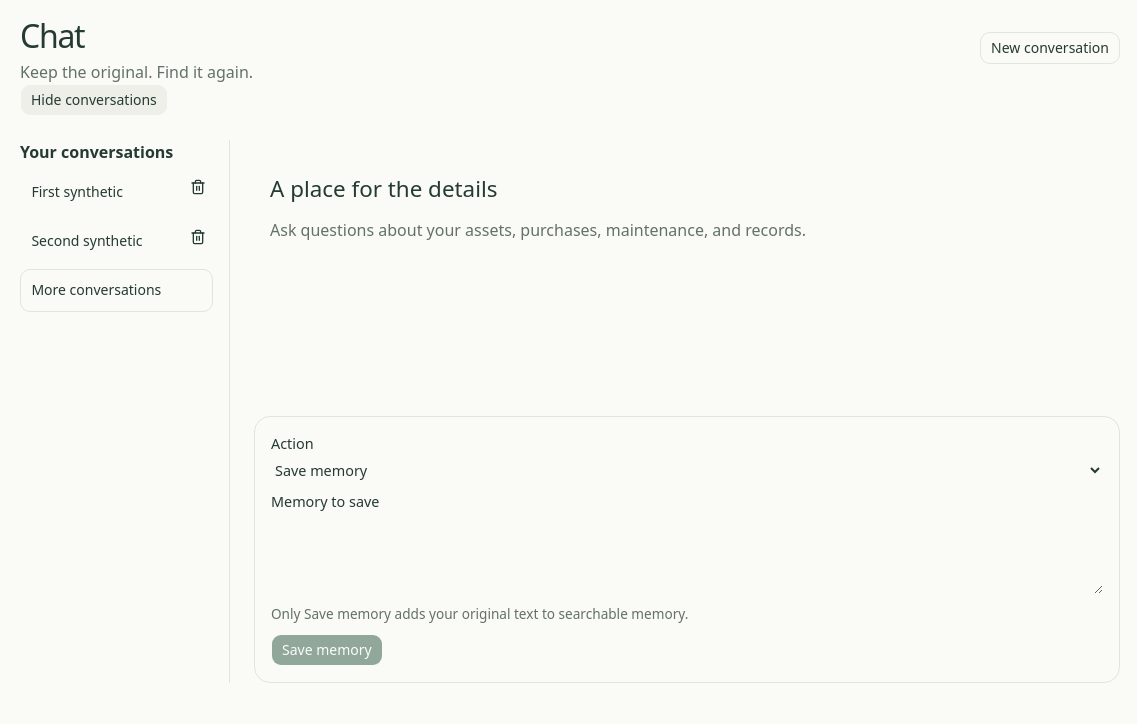
aborts pending pagination so a late page cannot restore a deleted conversation
The width and height of the screenshot is (1137, 724).
Check: the button "First synthetic" is shown, box [20, 170, 177, 213]
Click the button "More conversations" at (116, 290), box [20, 269, 213, 312]
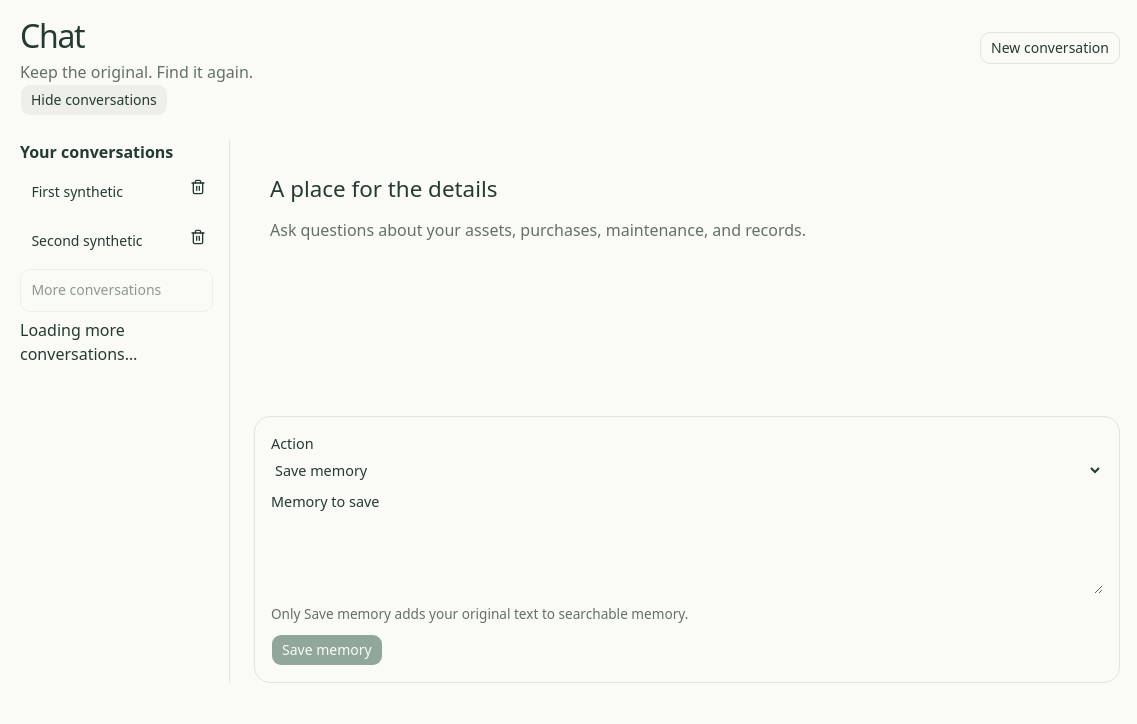
Click the button named "Review deletion of First synthetic" at (197, 187), box [181, 170, 213, 204]
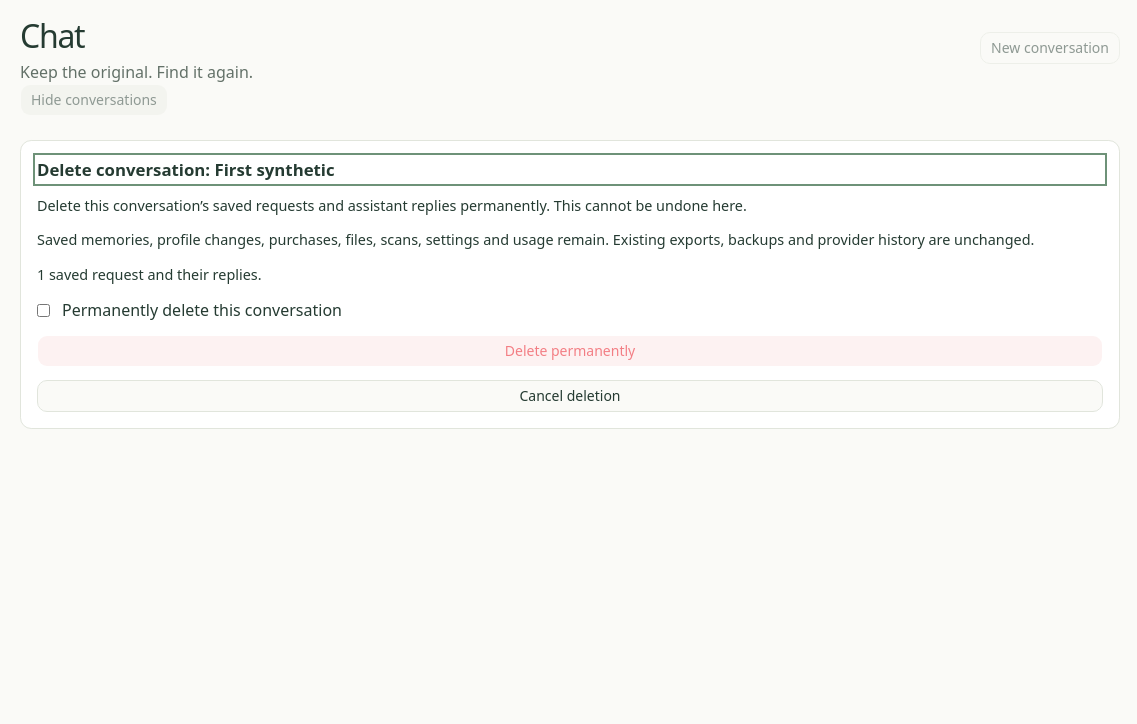
Click the checkbox labelled "Permanently delete this conversation" at (44, 310), box [37, 304, 50, 317]
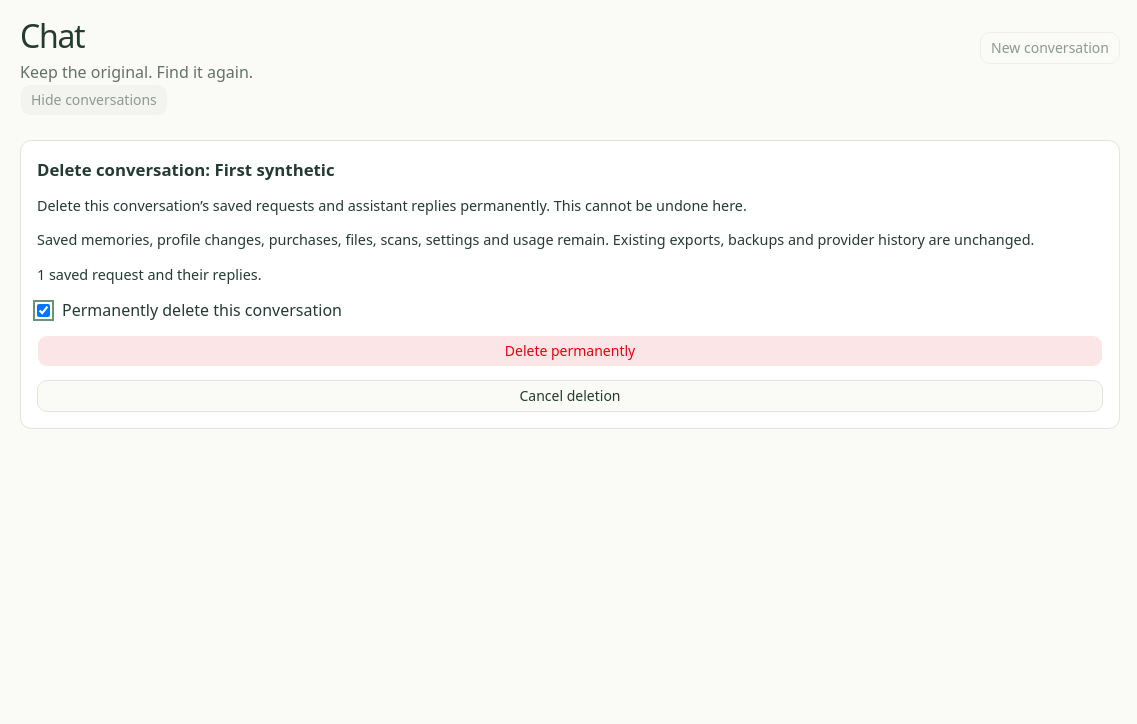
Click the button "Delete permanently" at (570, 351), box [37, 335, 1103, 367]
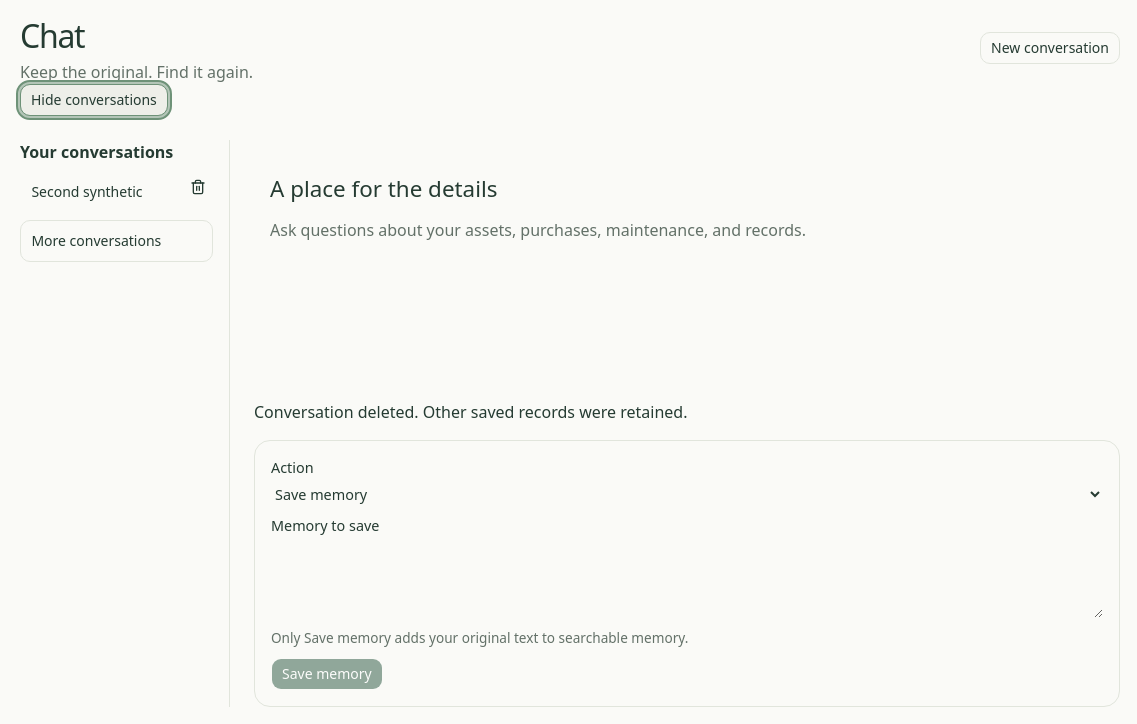
Check: the text "Conversation deleted. Other saved records were retained." is shown, box [254, 401, 688, 423]
Check: the heading "First synthetic" is gone
Check: the button "Second synthetic" is shown, box [20, 170, 177, 213]
